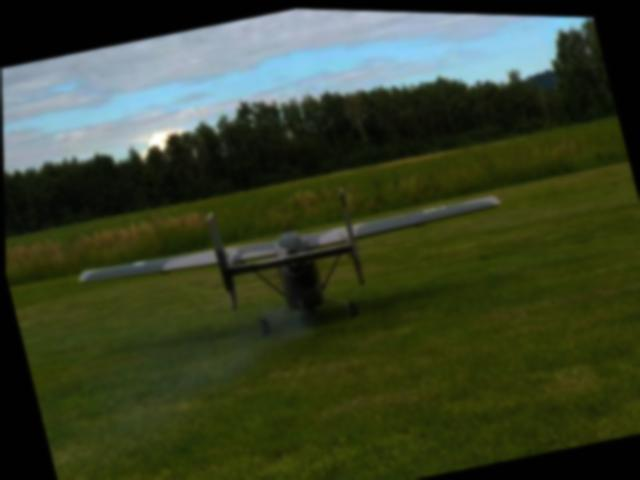uav: (61, 139, 522, 383)
